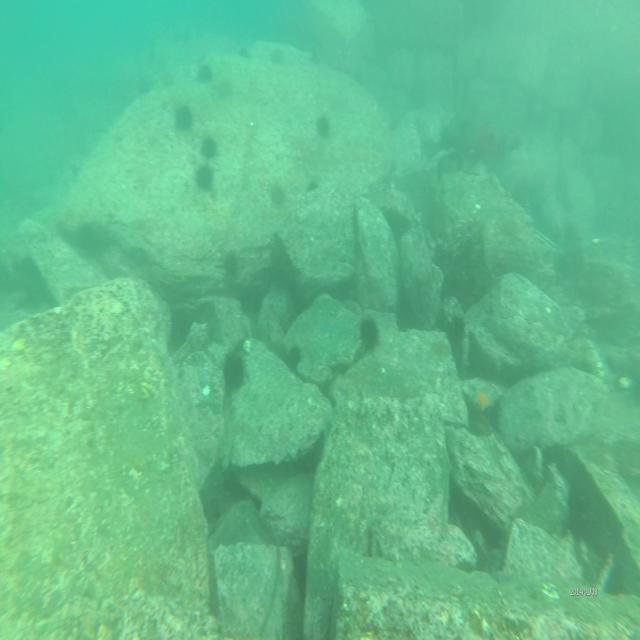echinus: (222, 347, 246, 390), (360, 314, 380, 350), (195, 165, 215, 191), (269, 183, 287, 210), (176, 102, 192, 132), (199, 136, 218, 158), (315, 114, 331, 140), (197, 63, 212, 85)
starfish: (466, 381, 498, 422)
